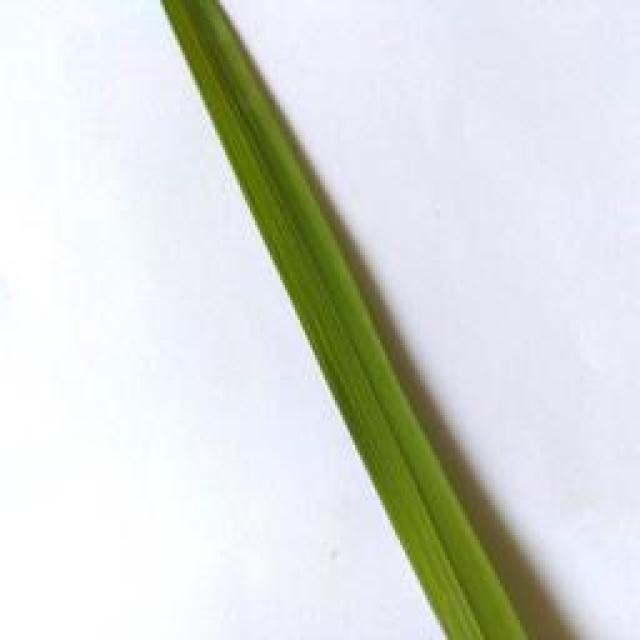Healthy-Plant: (158, 3, 525, 640)
